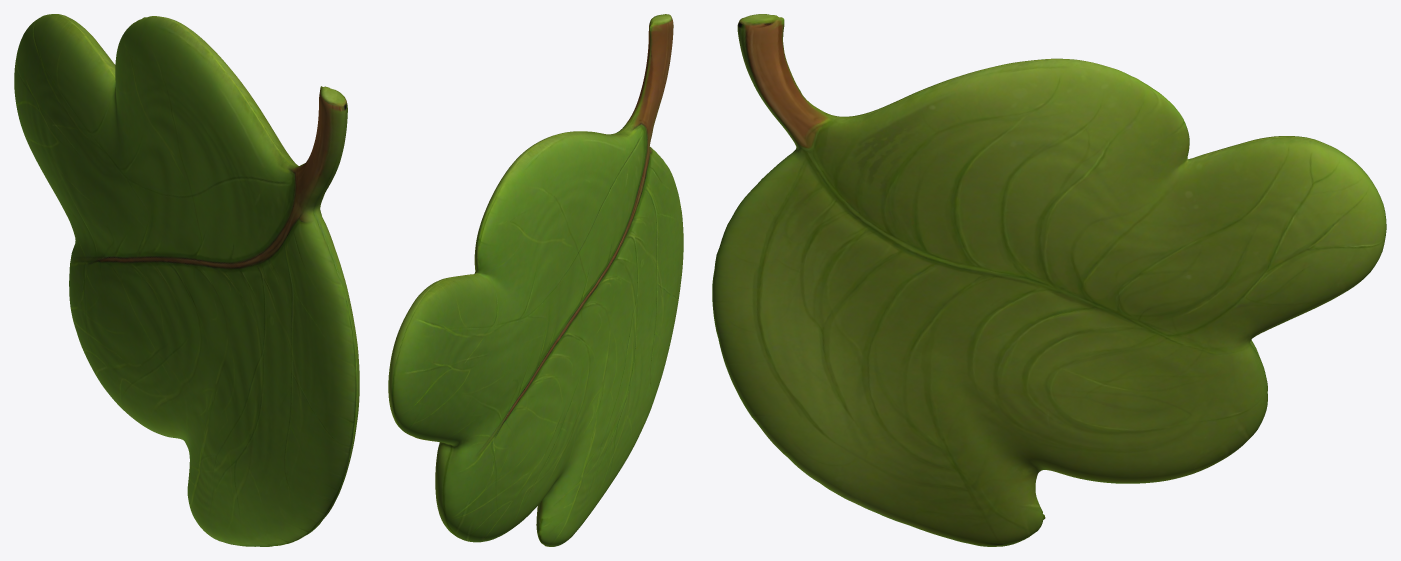
File: leaf.glb
The picture shows the model from 3 angles, left to right: view 1: azimuth 30°, elevation 25°; view 2: azimuth 150°, elevation 25°; view 3: azimuth 270°, elevation 25°; orthographic projection. The views are drawn at different scales.
Bounding box in the file's own units: 0.2 × 1.73 × 2.
Materials: 1 (1 with a texture image).
